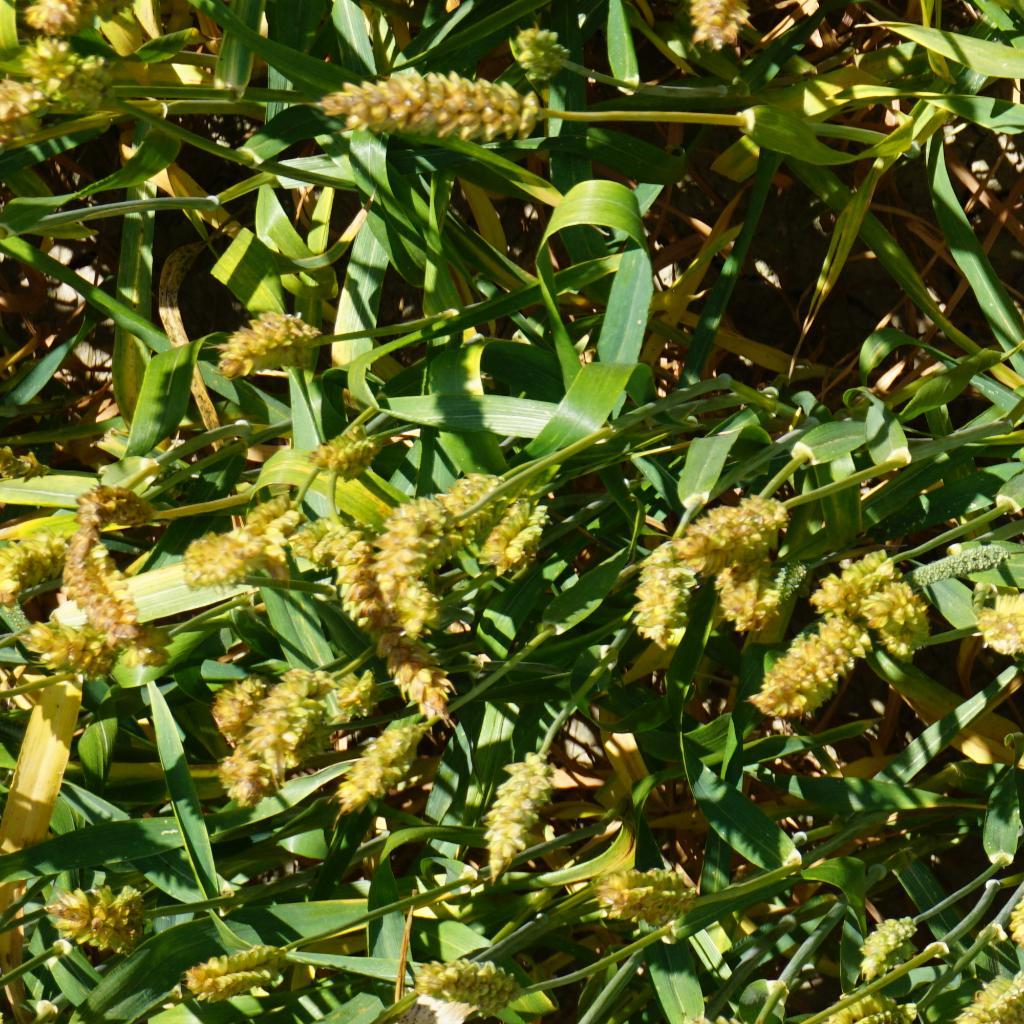0-0: (305, 68, 516, 153), (757, 624, 861, 729), (374, 500, 449, 641), (311, 513, 387, 628), (595, 856, 702, 936), (220, 304, 321, 380), (24, 29, 123, 105), (169, 932, 281, 998), (334, 722, 423, 803), (58, 546, 132, 634), (631, 533, 689, 645), (480, 758, 544, 857), (1, 72, 78, 150), (682, 490, 782, 548), (472, 497, 553, 568), (677, 0, 771, 56), (416, 951, 513, 1005), (29, 615, 115, 675), (51, 886, 139, 944), (715, 554, 780, 631), (314, 652, 389, 718), (192, 527, 272, 588), (860, 597, 938, 659), (260, 668, 316, 748), (220, 739, 297, 796), (504, 16, 568, 83), (819, 556, 905, 604), (316, 409, 378, 472), (280, 510, 341, 574), (823, 978, 906, 1024), (860, 914, 923, 974), (395, 643, 455, 705), (967, 590, 1024, 652), (112, 623, 177, 676), (69, 480, 149, 523), (0, 532, 44, 600), (34, 0, 131, 29), (969, 969, 1024, 1020), (214, 675, 265, 726), (448, 473, 500, 521), (250, 492, 301, 534), (997, 0, 1024, 6)
